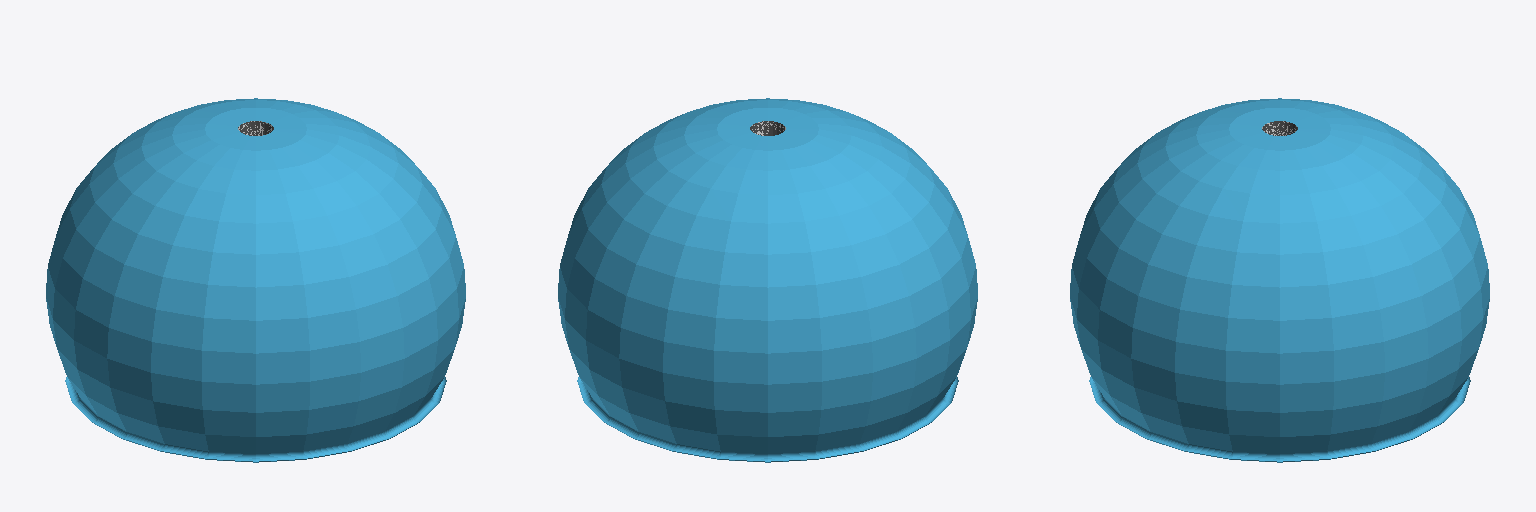
Rendered from original-7.obj.
3 views of the same model, side by side, from view 1: azimuth 30°, elevation 25°; view 2: azimuth 150°, elevation 25°; view 3: azimuth 270°, elevation 25° (orthographic).
Visible parts, largest first — view 1: mesh9/mesh9-geometry#mesh9-geometry; view 2: mesh9/mesh9-geometry#mesh9-geometry; view 3: mesh9/mesh9-geometry#mesh9-geometry.
Part boxes in pixels (left/top/right/bottom): mesh9/mesh9-geometry#mesh9-geometry: left=46, top=98, right=465, bottom=462; mesh9/mesh9-geometry#mesh9-geometry: left=558, top=98, right=977, bottom=462; mesh9/mesh9-geometry#mesh9-geometry: left=1070, top=98, right=1489, bottom=462.
Size of the model in its own units: 0.6264 by 0.4186 by 0.6264.